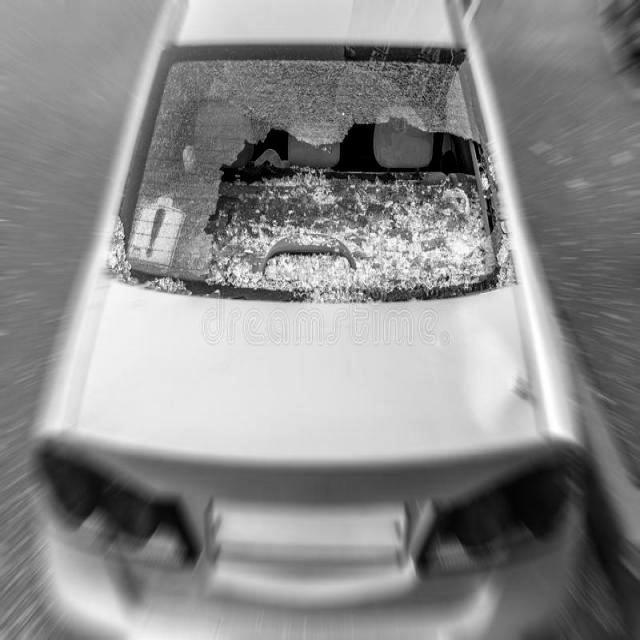Rear-windscreen-Damage: (194, 95, 500, 308)
